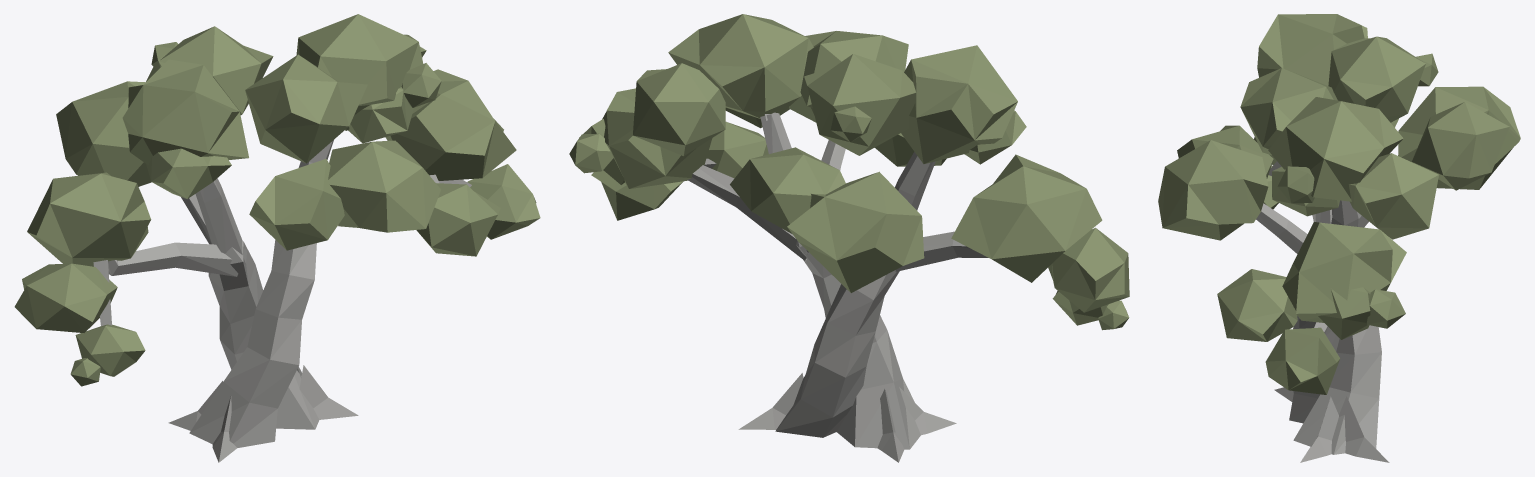
The model's file is olive.glb.
The picture shows the model from 3 angles, left to right: view 1: azimuth 30°, elevation 25°; view 2: azimuth 150°, elevation 25°; view 3: azimuth 270°, elevation 25°; orthographic projection. The views are drawn at different scales.
Visible parts, largest first — view 1: olive; view 2: olive; view 3: olive.
Boxes of the visible parts, bbox=[...] form: olive: bbox=[14, 14, 540, 462]; olive: bbox=[569, 14, 1129, 462]; olive: bbox=[1158, 14, 1520, 462].
Bounding box in the file's own units: 6.31 × 4.52 × 3.95.
